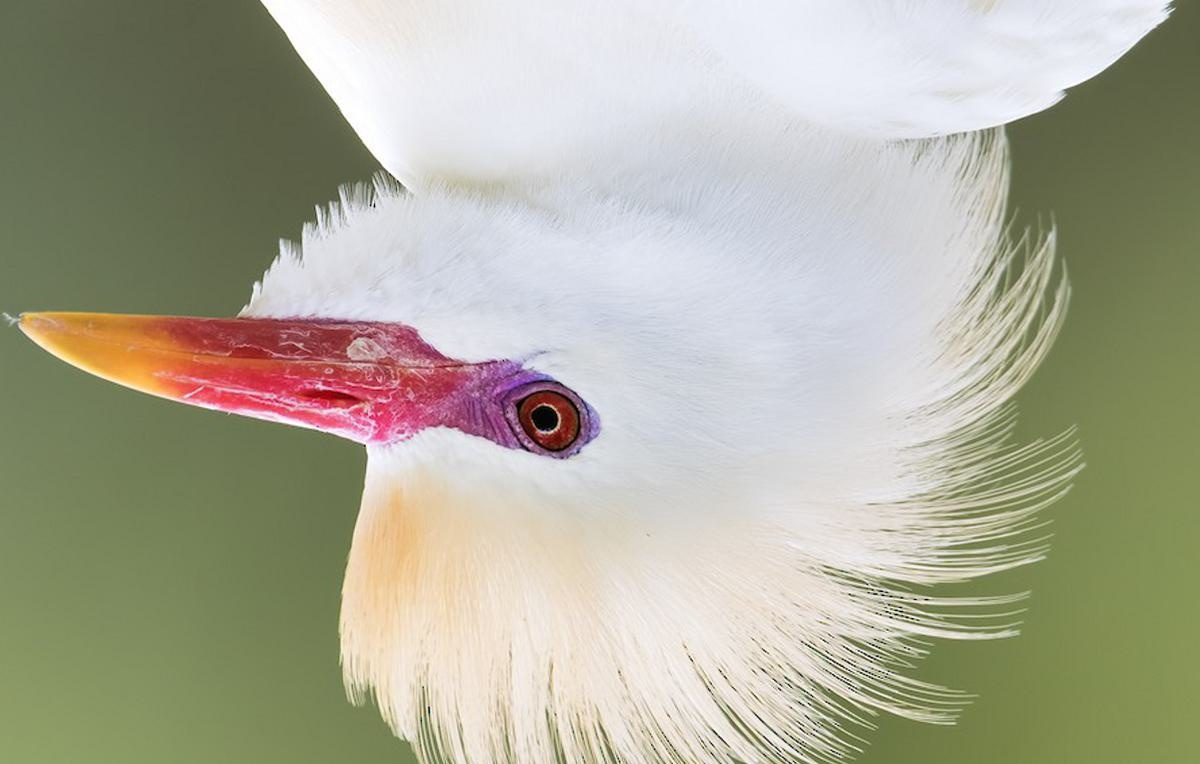egret: (1, 1, 1164, 761)
